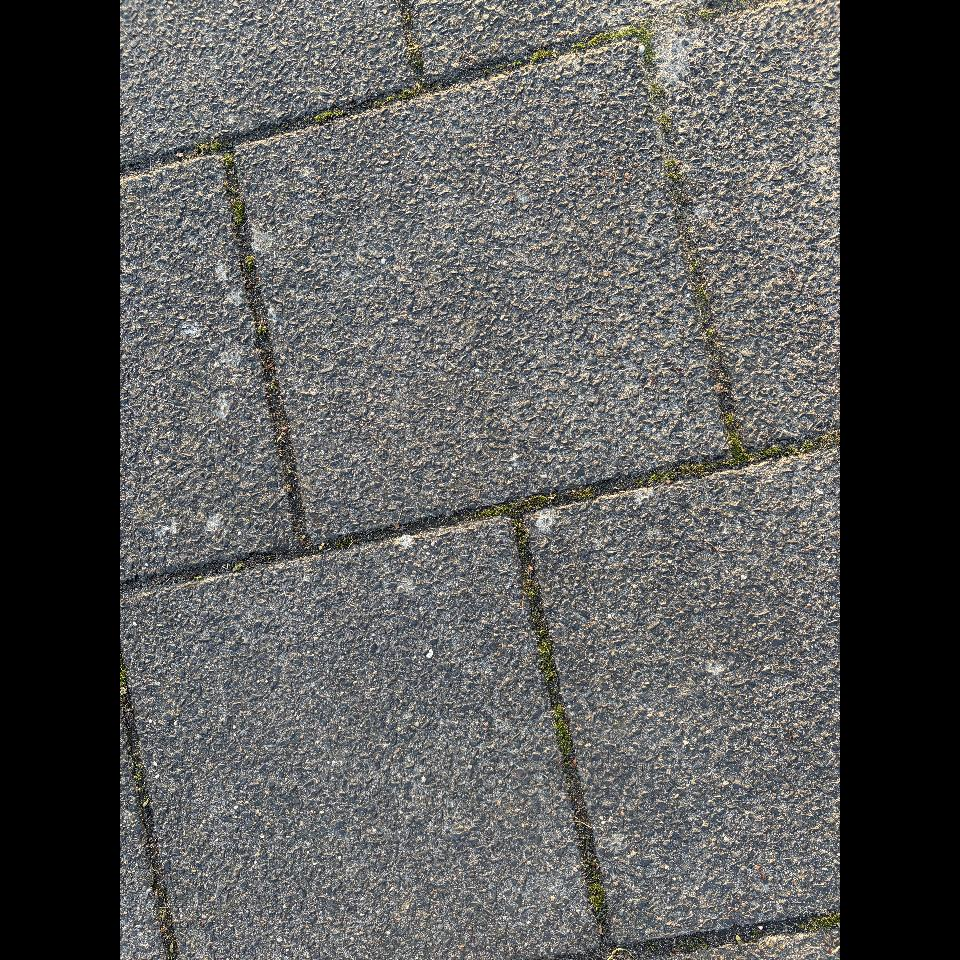weed: (232, 561, 245, 572), (120, 686, 127, 696), (193, 576, 202, 580)
